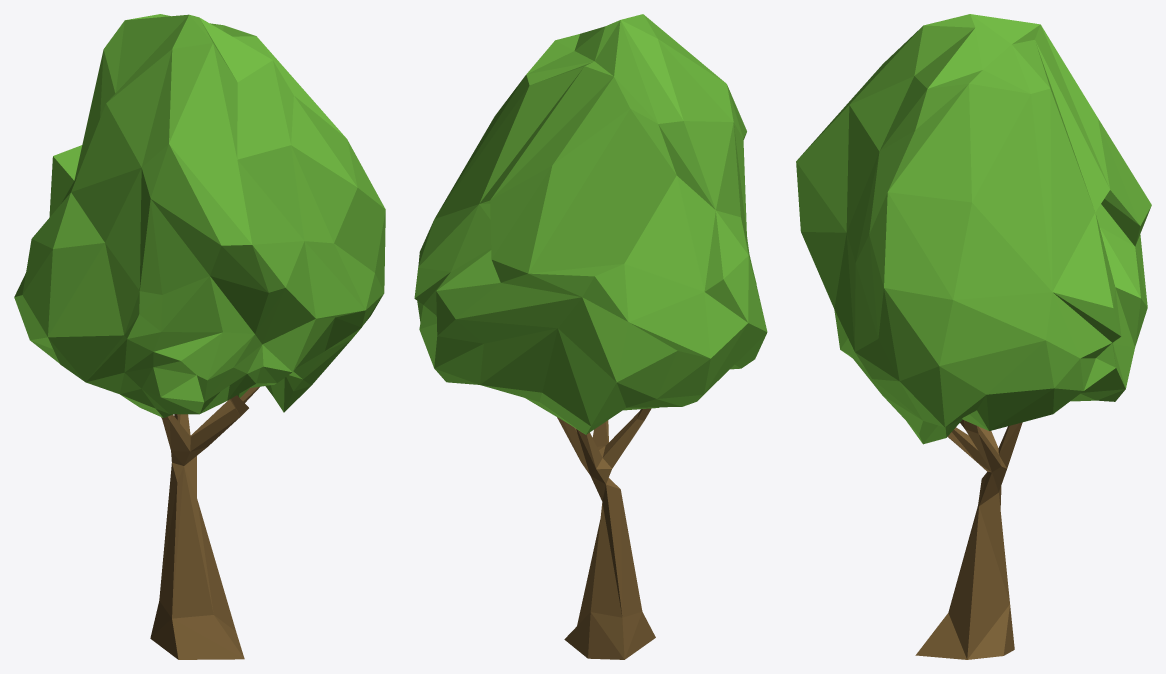
Rendered from baum_02.fbx.
3 views of the same model, side by side, from view 1: azimuth 30°, elevation 25°; view 2: azimuth 150°, elevation 25°; view 3: azimuth 270°, elevation 25° (orthographic).
Visible parts, largest first — view 1: bush_01, Cube; view 2: bush_01, Cube; view 3: bush_01, Cube.
Boxes of the visible parts, bbox=[...] form: bush_01: bbox=[14, 14, 385, 417]; Cube: bbox=[150, 386, 259, 659]; bush_01: bbox=[414, 14, 767, 434]; Cube: bbox=[557, 408, 655, 659]; bush_01: bbox=[796, 14, 1151, 444]; Cube: bbox=[915, 420, 1022, 659].
Bounding box in the file's own units: 719 × 1332 × 681.
